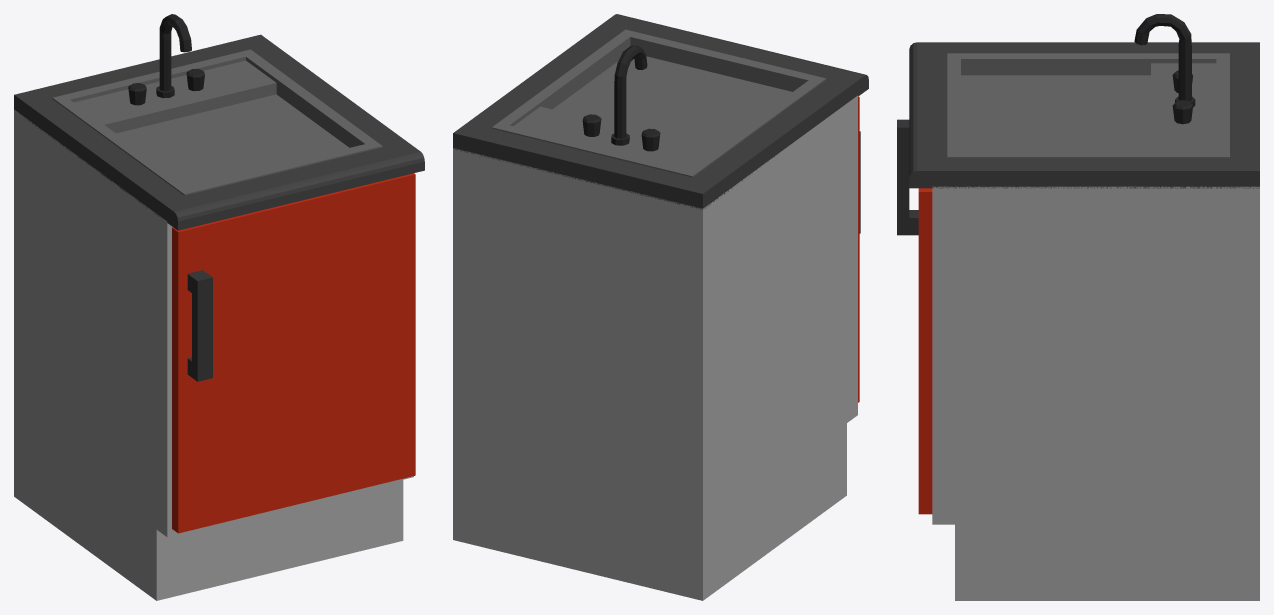
File: Spühle.fbx
3 renders of one model, left to right at view 1: azimuth 30°, elevation 25°; view 2: azimuth 150°, elevation 25°; view 3: azimuth 270°, elevation 25°, orthographic. The views are drawn at different scales.
Visible parts, largest first — view 1: Cube.018; view 2: Cube.018; view 3: Cube.018.
Boxes of the visible parts, left/top/right/bottom form: Cube.018: left=14, top=14, right=424, bottom=600; Cube.018: left=453, top=14, right=868, bottom=600; Cube.018: left=897, top=14, right=1259, bottom=600.
Size of the model in its own units: 104 by 195 by 123.
